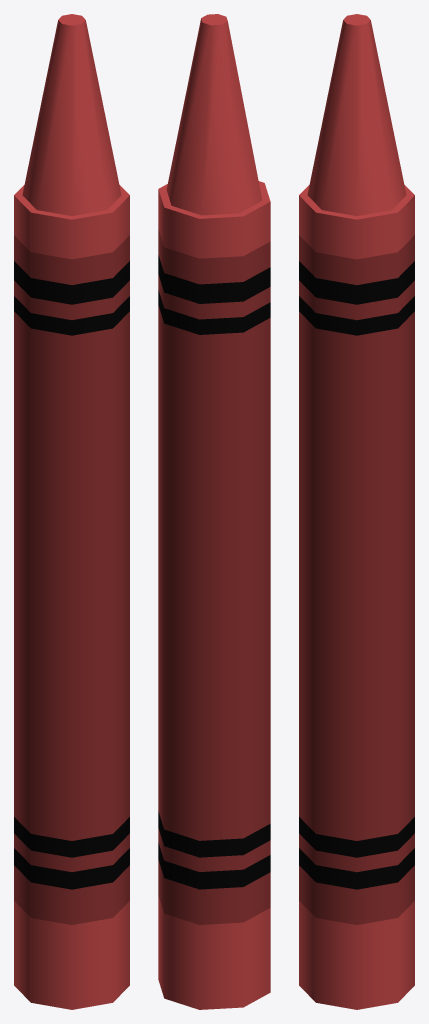
File: CrayonRed.fbx
The picture shows the model from 3 angles, left to right: view 1: azimuth 90°, elevation 25°; view 2: azimuth 210°, elevation 25°; view 3: azimuth 270°, elevation 25°; orthographic projection.
Visible parts, largest first — view 1: pCylinder1; view 2: pCylinder1; view 3: pCylinder1.
Boxes of the visible parts, x1,y1,x2,y2 form: pCylinder1: (14,14,129,1009); pCylinder1: (158,14,270,1009); pCylinder1: (299,14,414,1009).
Bounding box in the file's own units: 1.37 × 12.55 × 1.37.
